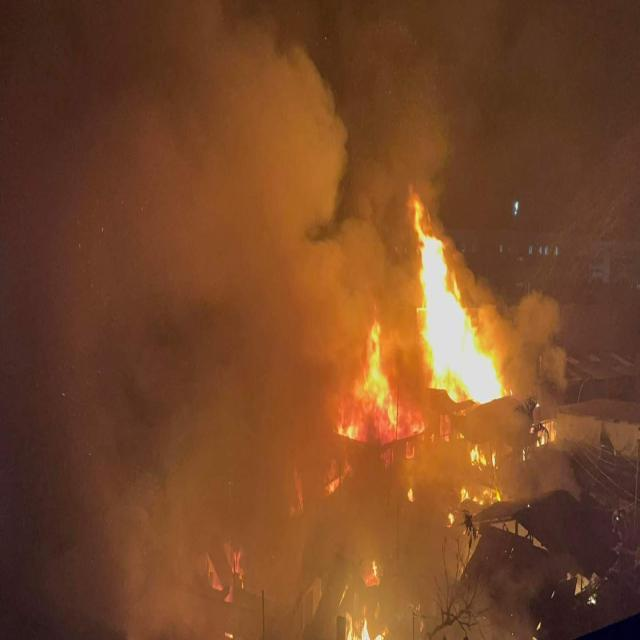Fire: (410, 206, 504, 422), (341, 324, 398, 451), (208, 524, 260, 588)
Smoke: (0, 1, 381, 515), (354, 20, 638, 308), (333, 450, 610, 640)
